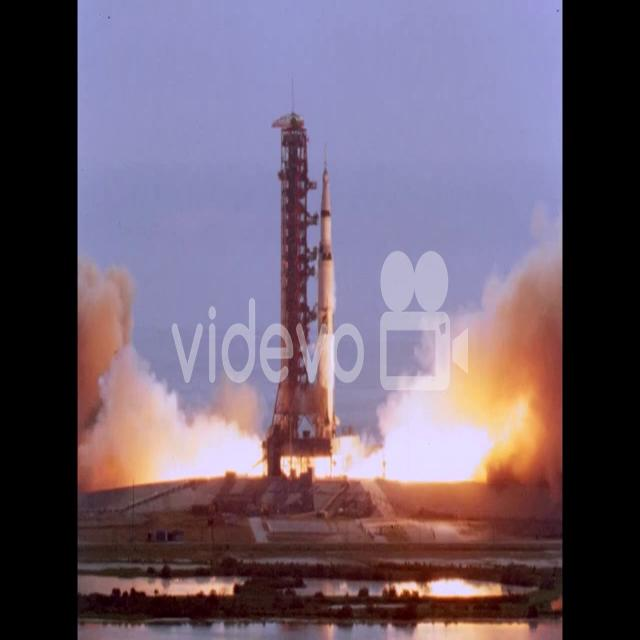rocket: (315, 156, 340, 454)
